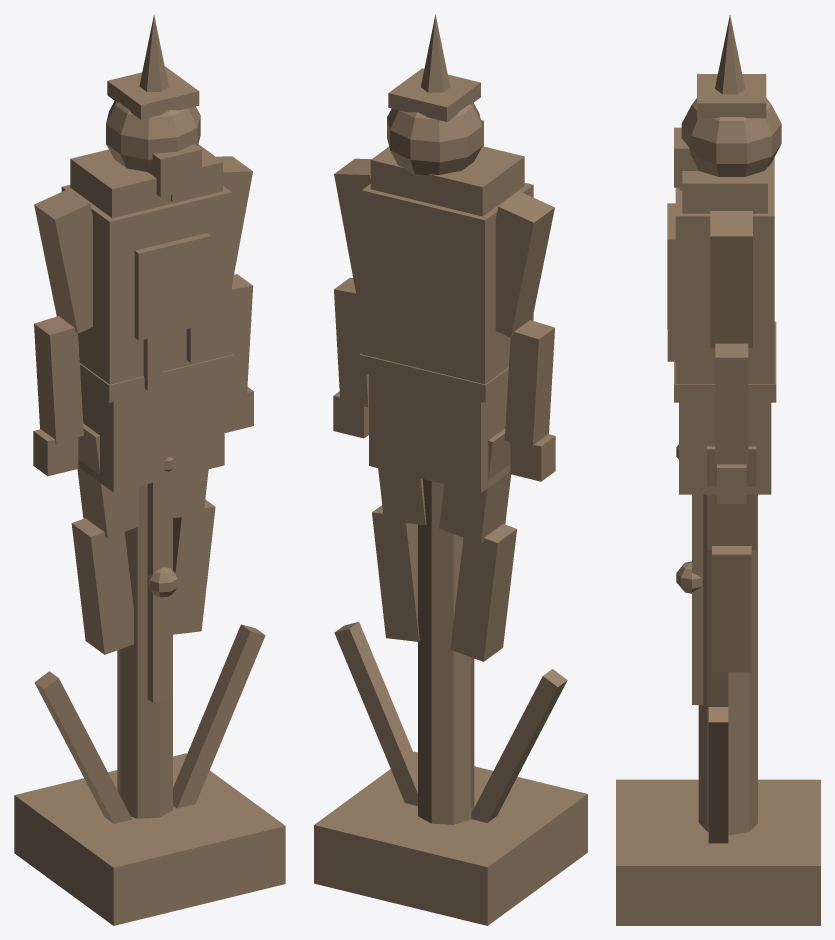
The model's file is aldrich_impaled_stake_02.fbx.
3 renders of one model, left to right at view 1: azimuth 30°, elevation 25°; view 2: azimuth 150°, elevation 25°; view 3: azimuth 270°, elevation 25°, orthographic. The views are drawn at different scales.
Visible parts, largest first — view 1: aldrich_impaled_stake; view 2: aldrich_impaled_stake; view 3: aldrich_impaled_stake.
Part boxes in pixels (bbox=[...]): aldrich_impaled_stake: bbox=[14, 14, 285, 925]; aldrich_impaled_stake: bbox=[314, 14, 587, 925]; aldrich_impaled_stake: bbox=[616, 15, 820, 925].
Size of the model in its own units: 0.7985 by 2.92 by 0.62.
